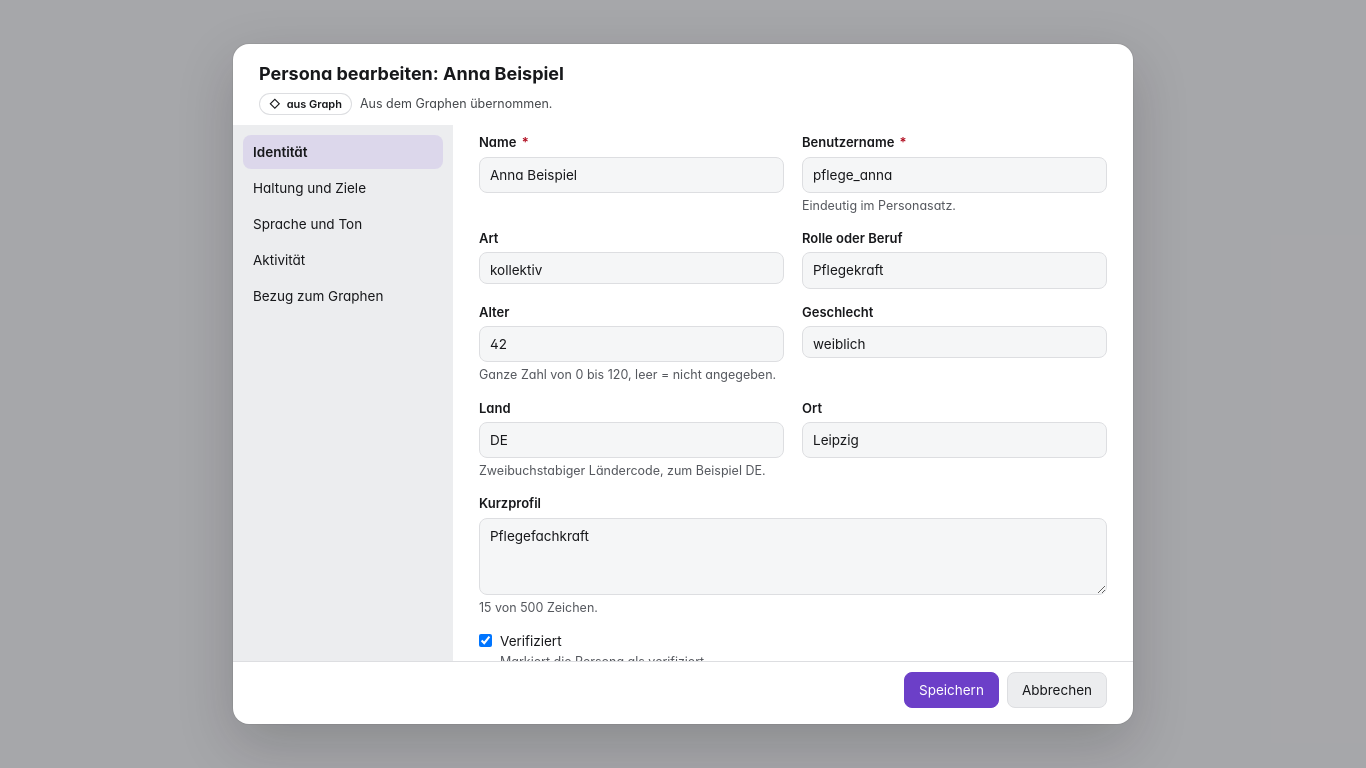
Test case: PersonaEditorDialog: Validierung › wechselt zum Abschnitt des ersten Fehlers und prüft Wertgrenzen
This screenshot has width=1366, height=768.
Click the tab "Aktivität" at (343,260), box x1=243 y1=243 x2=443 y2=277
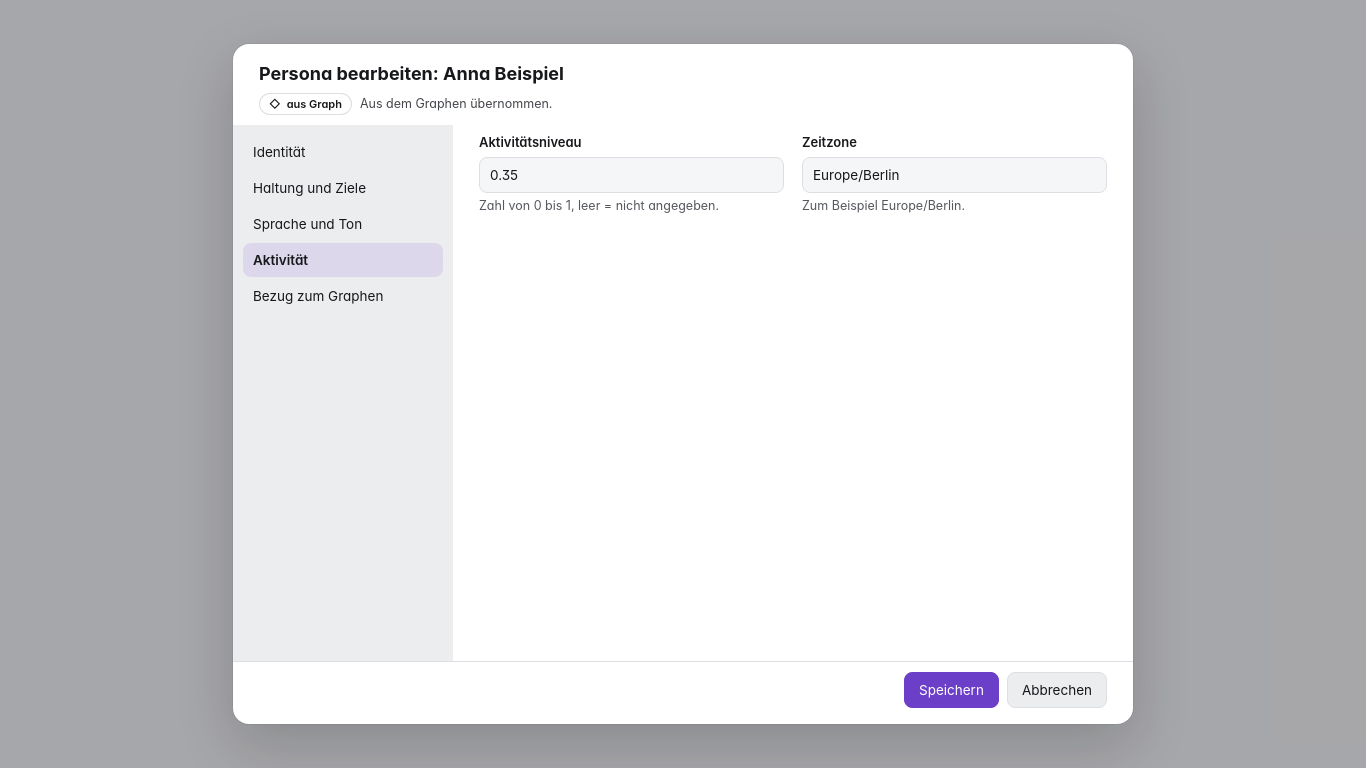
Replace the text in the field labelled "Aktivitätsniveau" with "2" at (632,175), box x1=479 y1=156 x2=784 y2=193
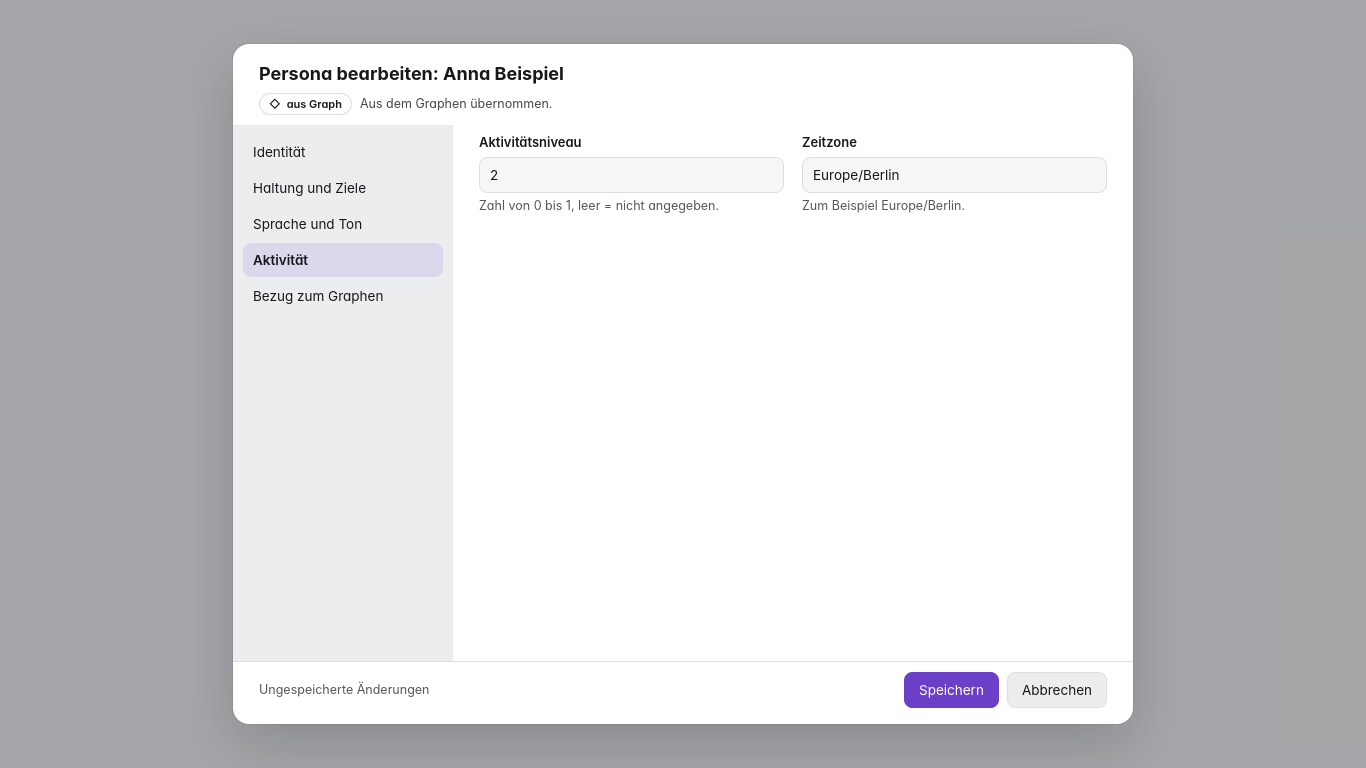
Click the tab "Identität" at (343,152), box x1=243 y1=135 x2=443 y2=169
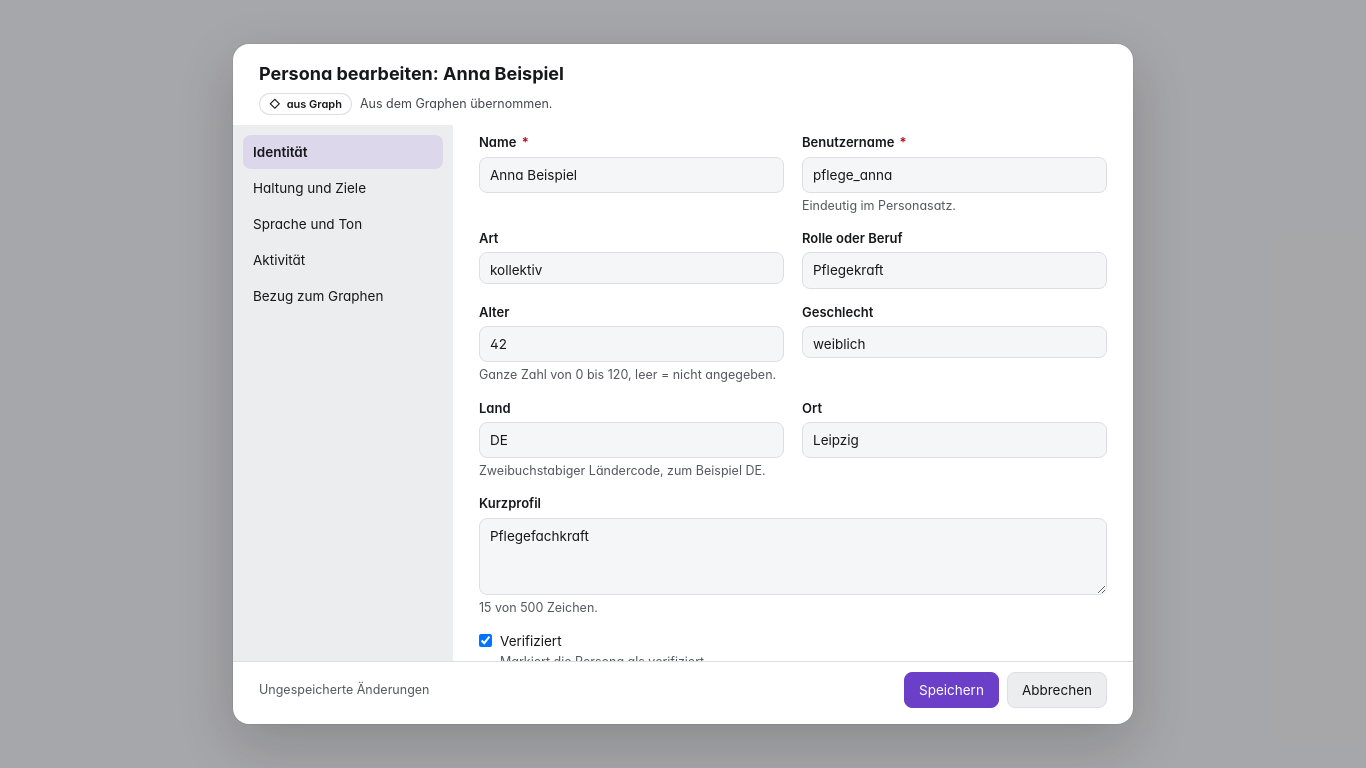
Replace the text in the field labelled "Alter" with "abc" at (632,344), box x1=479 y1=326 x2=784 y2=362
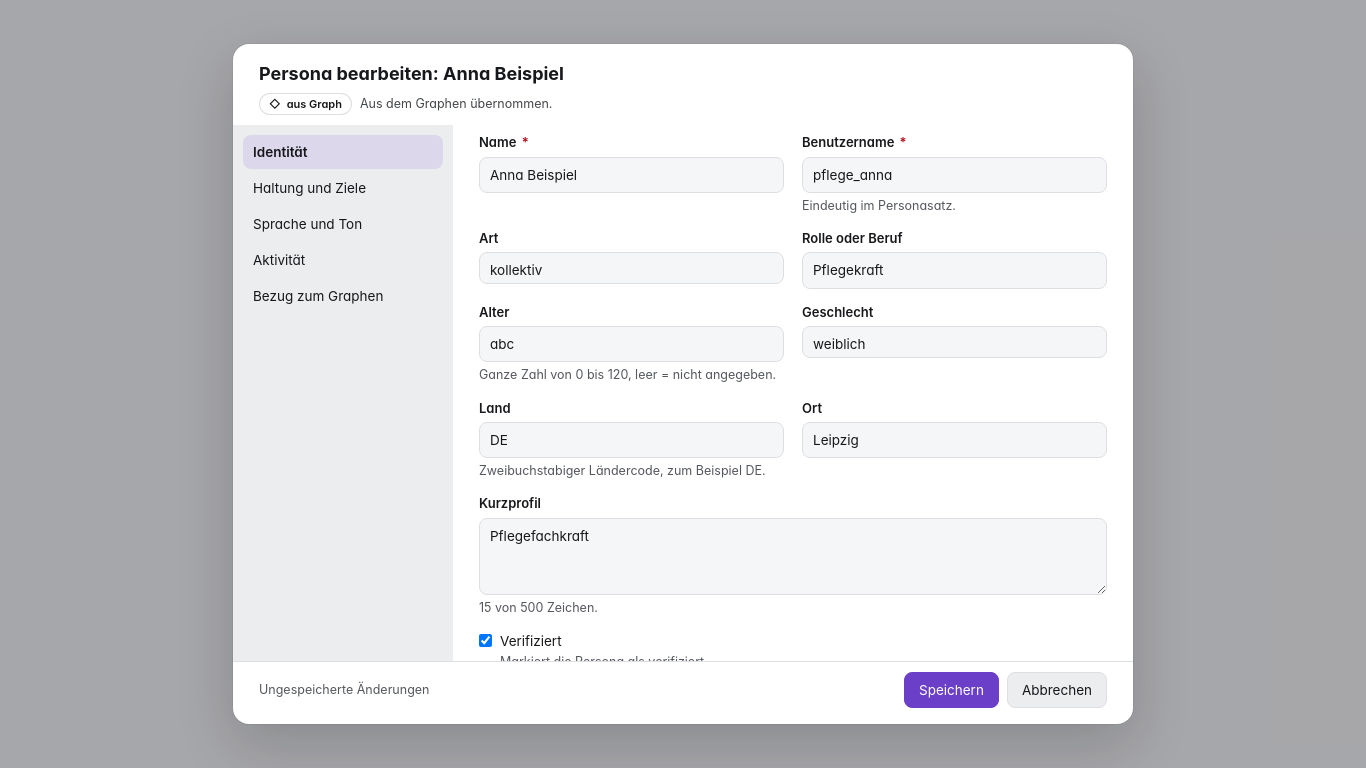
Replace the text in the field labelled "Land" with "DEU" at (632,440), box x1=479 y1=422 x2=784 y2=458
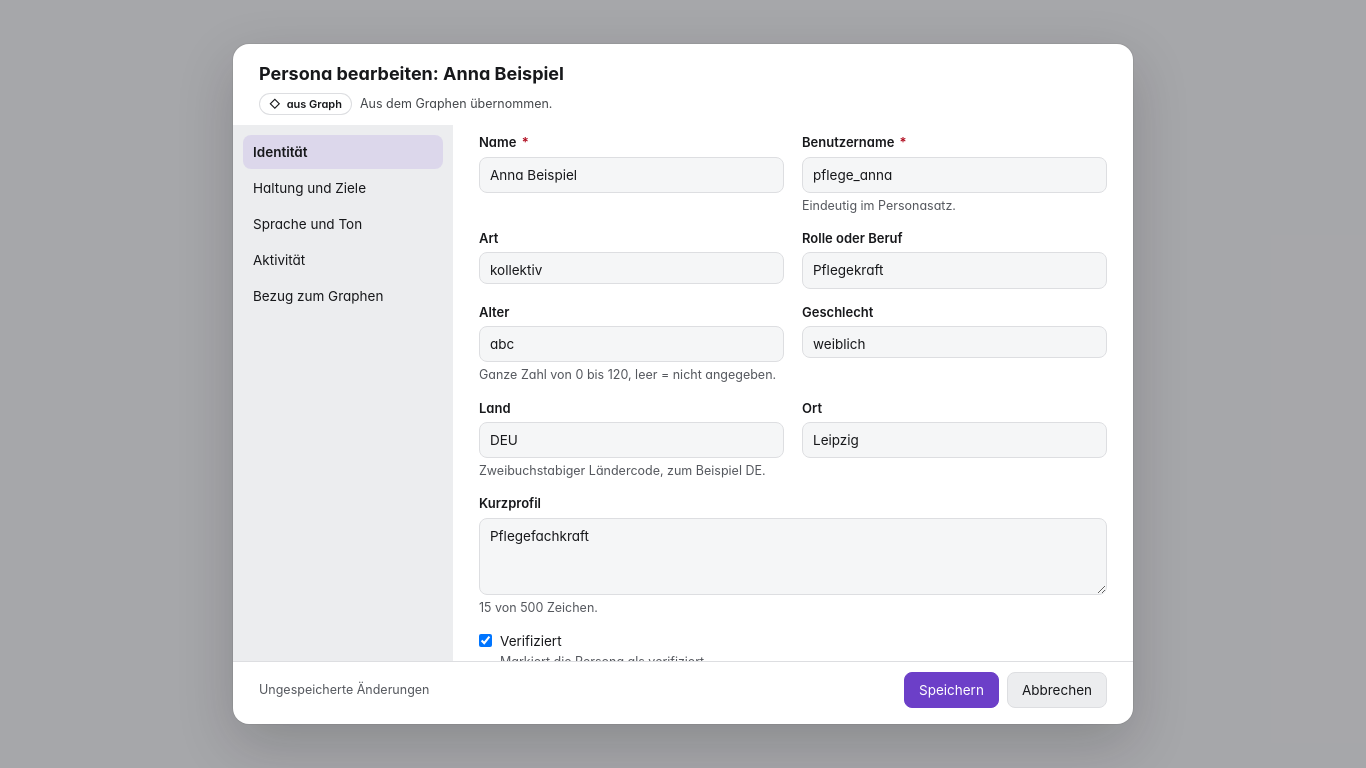
Submit the form, box x1=233 y1=125 x2=1133 y2=724
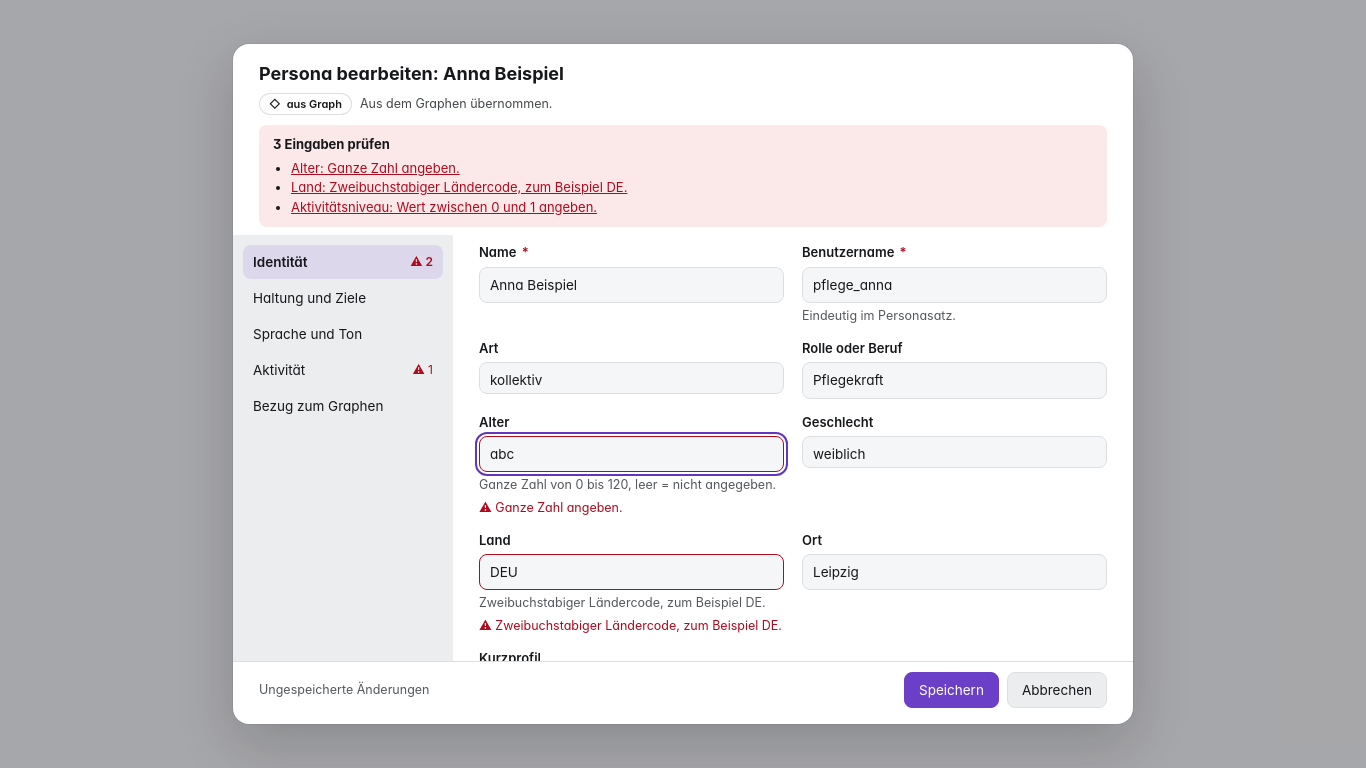
expect the text "Zweibuchstabiger Ländercode" is shown: met, box x1=291 y1=178 x2=627 y2=198
expect the text "Ganze Zahl angeben." is shown: met, box x1=291 y1=158 x2=460 y2=178
